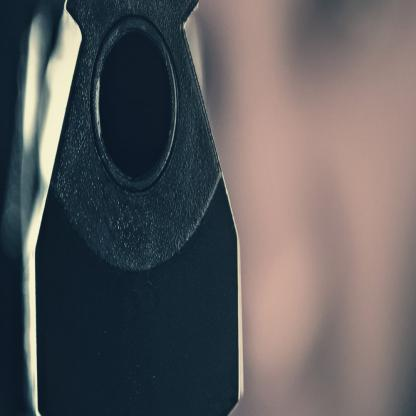gun: (22, 0, 242, 415)
